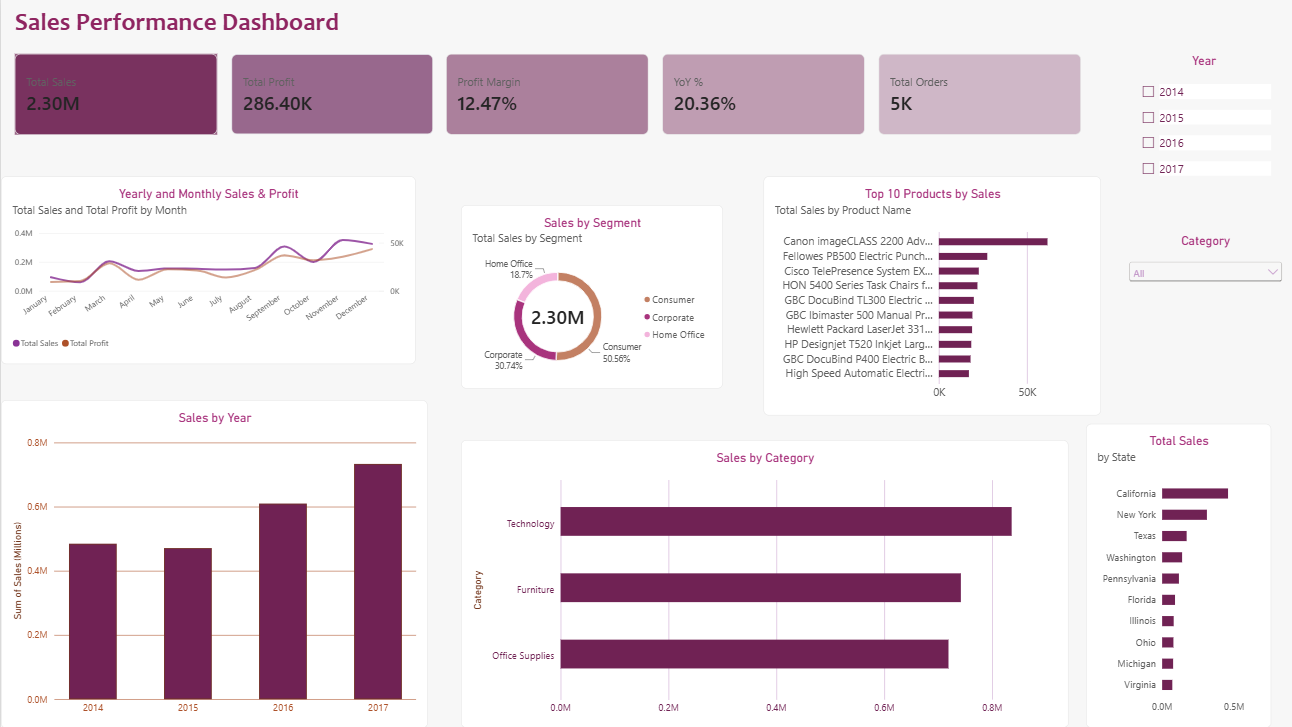

The page's visual inventory and layout, read from the dashboard file:
{"tool":"powerbi","page":{"name":"Page 1","canvas":[1920,1080],"ordinal":0},"visuals":[{"type":"cardVisual","title":"Profit Margin ","fields":{"Data":["sales_cleaned.Profit Margin"]},"box":[660,80,300,120],"z":0},{"type":"cardVisual","title":"Total Profit ","fields":{"Data":["sales_cleaned.Total Profit"]},"box":[340,80,300,120],"z":1000},{"type":"cardVisual","title":"Total Sales ","fields":{"Data":["sales_cleaned.Total Sales"]},"box":[20,80,300,120],"z":2000},{"type":"clusteredColumnChart","title":"Sales by Year ","fields":{"Category":["sales_cleaned.Order Date.Variation.Date Hierarchy.Year"],"Y":["Sum(sales_cleaned.Sales)"]},"box":[0,592,632,488],"z":3000},{"type":"clusteredBarChart","title":"Sales by Category","fields":{"Category":["sales_cleaned.Category"],"Y":["Sum(sales_cleaned.Sales)"]},"box":[682,652,900,428],"z":4000},{"type":"slicer","title":"Year","fields":{"Values":["sales_cleaned.Order Year"]},"box":[1684,80,198,262],"z":5000},{"type":"slicer","title":"Category","fields":{"Values":["sales_cleaned.Category"]},"box":[1684,324,236,268],"z":6000},{"type":"lineChart","title":"Yearly and Monthly Sales & Profit","fields":{"Category":["sales_cleaned.Order Date.Variation.Date Hierarchy.Year","sales_cleaned.Order Date.Variation.Date Hierarchy.Month"],"Y":["sales_cleaned.Total Sales"],"Y2":["sales_cleaned.Total Profit"]},"box":[0,262,614,278],"z":7000},{"type":"clusteredBarChart","title":"Top 10 Products by Sales","fields":{"Category":["sales_cleaned.Product Name"],"Y":["sales_cleaned.Total Sales"]},"box":[1130,262,500,354],"z":8000},{"type":"cardVisual","title":"YoY Growth","fields":{"Data":["sales_cleaned.YoY %"]},"box":[980,80,300,120],"z":9000},{"type":"cardVisual","title":"Total Orders ","fields":{"Data":["sales_cleaned.Total Orders"]},"box":[1300,80,300,120],"z":10000},{"type":"donutChart","title":"Sales by Segment","fields":{"Category":["sales_cleaned.Segment"],"Y":["sales_cleaned.Total Sales"]},"box":[682,304,388,272],"z":11000},{"type":"barChart","fields":{"Category":["sales_cleaned.State"],"Y":["sales_cleaned.Total Sales"]},"box":[1608,628,274,452],"z":12000},{"type":"textbox","title":"Sales Performance Dashboard ","box":[20,10,1000,60],"z":15000}]}

Visuals, with their boxes in screenshot pixels (x1, y1, x2, y2), scaled from the page's 1920x1080 canvas onto the 1292x727 screenshot:
"Profit Margin " cardVisual: {"x1": 444, "y1": 54, "x2": 646, "y2": 135}
"Total Profit " cardVisual: {"x1": 229, "y1": 54, "x2": 431, "y2": 135}
"Total Sales " cardVisual: {"x1": 13, "y1": 54, "x2": 215, "y2": 135}
"Sales by Year " clusteredColumnChart: {"x1": 0, "y1": 399, "x2": 425, "y2": 726}
"Sales by Category" clusteredBarChart: {"x1": 459, "y1": 439, "x2": 1065, "y2": 726}
"Year" slicer: {"x1": 1133, "y1": 54, "x2": 1266, "y2": 230}
"Category" slicer: {"x1": 1133, "y1": 218, "x2": 1291, "y2": 399}
"Yearly and Monthly Sales & Profit" lineChart: {"x1": 0, "y1": 176, "x2": 413, "y2": 364}
"Top 10 Products by Sales" clusteredBarChart: {"x1": 760, "y1": 176, "x2": 1097, "y2": 415}
"YoY Growth" cardVisual: {"x1": 659, "y1": 54, "x2": 861, "y2": 135}
"Total Orders " cardVisual: {"x1": 875, "y1": 54, "x2": 1077, "y2": 135}
"Sales by Segment" donutChart: {"x1": 459, "y1": 205, "x2": 720, "y2": 388}
barChart - sales_cleaned.State x sales_cleaned.Total Sales: {"x1": 1082, "y1": 423, "x2": 1266, "y2": 726}
"Sales Performance Dashboard " textbox: {"x1": 13, "y1": 7, "x2": 686, "y2": 47}
